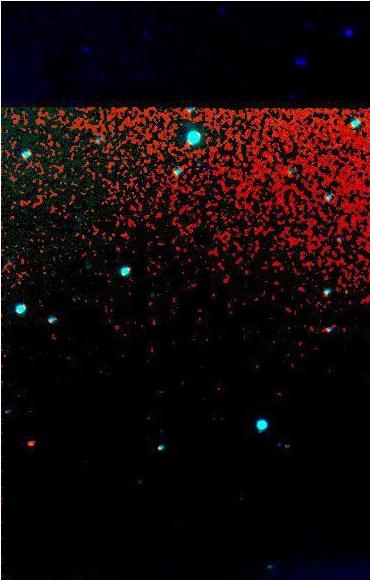star: (16, 429, 46, 459)
